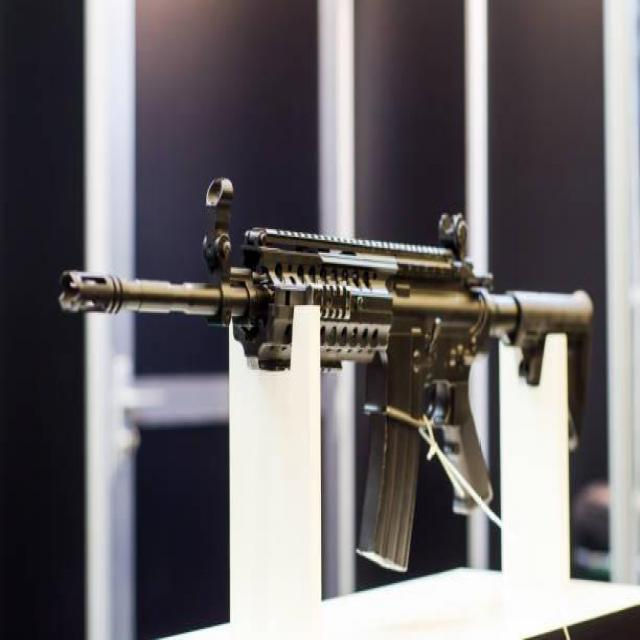weapon: (56, 176, 594, 574)
